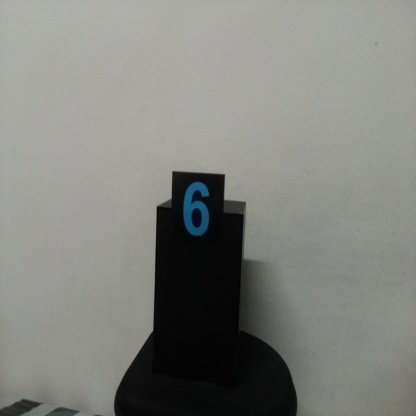id_6: (171, 171, 225, 260)
